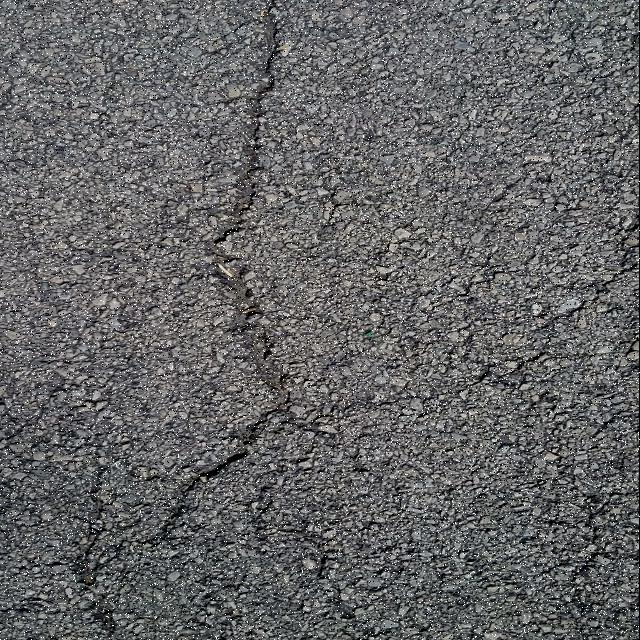Crack: (147, 0, 335, 569), (72, 460, 142, 640)
